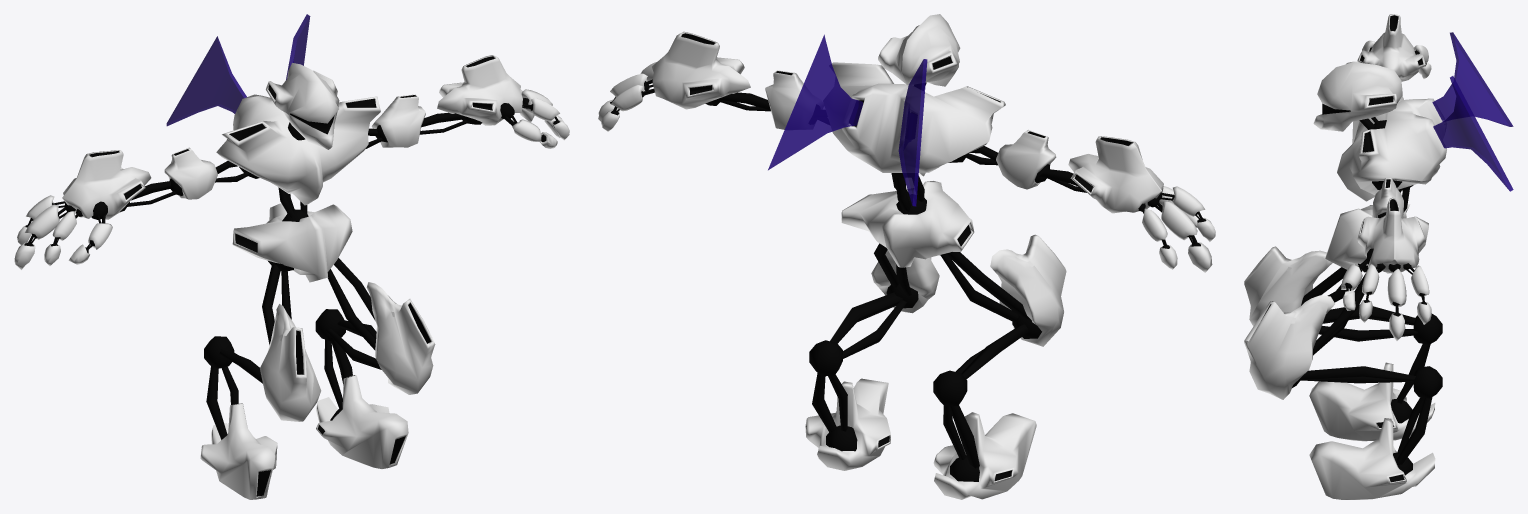
Rendered from BadBotParented2.001.fbx.
3 renders of one model, left to right at view 1: azimuth 30°, elevation 25°; view 2: azimuth 150°, elevation 25°; view 3: azimuth 270°, elevation 25°, orthographic. The views are drawn at different scales.
Parts seen in each view (by area): view 1: SpineMesh, LeftUpLegMesh, HM, RightUpLegMesh, LeftToeBaseMesh, RightToeBaseMesh, HeadMesh, LeftHand, RightHandMesh, LeftArmMesh, RightArmMesh, RightFootMesh (+4 smaller); view 2: SpineMesh, RightUpLegMesh, HM, RightToeBaseMesh, LeftHand, LeftToeBaseMesh, RightHandMesh, HeadMesh, RightArmMesh, LeftUpLegMesh, RightFootMesh, LeftLegMesh (+6 smaller); view 3: SpineMesh, LeftUpLegMesh, LeftToeBaseMesh, RightToeBaseMesh, RightUpLegMesh, HeadMesh, LeftHand, RightHandMesh, HM, LeftFootMesh, LeftLegMesh, RightLegMesh (+8 smaller).
Part boxes in pixels (box(x1,y1,x2,y2)): SpineMesh: box(166, 14, 380, 205); LeftUpLegMesh: box(327, 258, 435, 394); HM: box(232, 203, 352, 282); RightUpLegMesh: box(260, 264, 321, 421); LeftToeBaseMesh: box(316, 375, 408, 468); RightToeBaseMesh: box(200, 403, 277, 499); HeadMesh: box(265, 63, 339, 149); LeftHand: box(437, 55, 522, 125); RightHandMesh: box(62, 150, 151, 219); LeftArmMesh: box(365, 94, 425, 148); RightArmMesh: box(164, 147, 249, 199); RightFootMesh: box(204, 336, 238, 439); SpineMesh: box(768, 34, 1005, 206); RightUpLegMesh: box(940, 234, 1066, 346); HM: box(841, 181, 974, 267); RightToeBaseMesh: box(933, 412, 1036, 499); LeftHand: box(652, 31, 750, 109); LeftToeBaseMesh: box(805, 378, 890, 470); RightHandMesh: box(1068, 136, 1163, 213); HeadMesh: box(878, 14, 960, 86); RightArmMesh: box(966, 130, 1056, 189); LeftUpLegMesh: box(871, 243, 939, 313); RightFootMesh: box(933, 370, 979, 468); LeftLegMesh: box(830, 283, 918, 358); SpineMesh: box(1337, 32, 1513, 201); LeftUpLegMesh: box(1244, 273, 1365, 399); LeftToeBaseMesh: box(1309, 418, 1435, 499); RightToeBaseMesh: box(1309, 362, 1435, 441); RightUpLegMesh: box(1244, 246, 1362, 326); HeadMesh: box(1313, 62, 1402, 131); LeftHand: box(1357, 197, 1425, 273); RightHandMesh: box(1357, 14, 1425, 81); HM: box(1325, 204, 1428, 273); LeftFootMesh: box(1396, 366, 1442, 465); LeftLegMesh: box(1292, 366, 1415, 387); RightLegMesh: box(1318, 304, 1417, 341).
Bounding box in the file's own units: 215 × 155 × 91.83.
